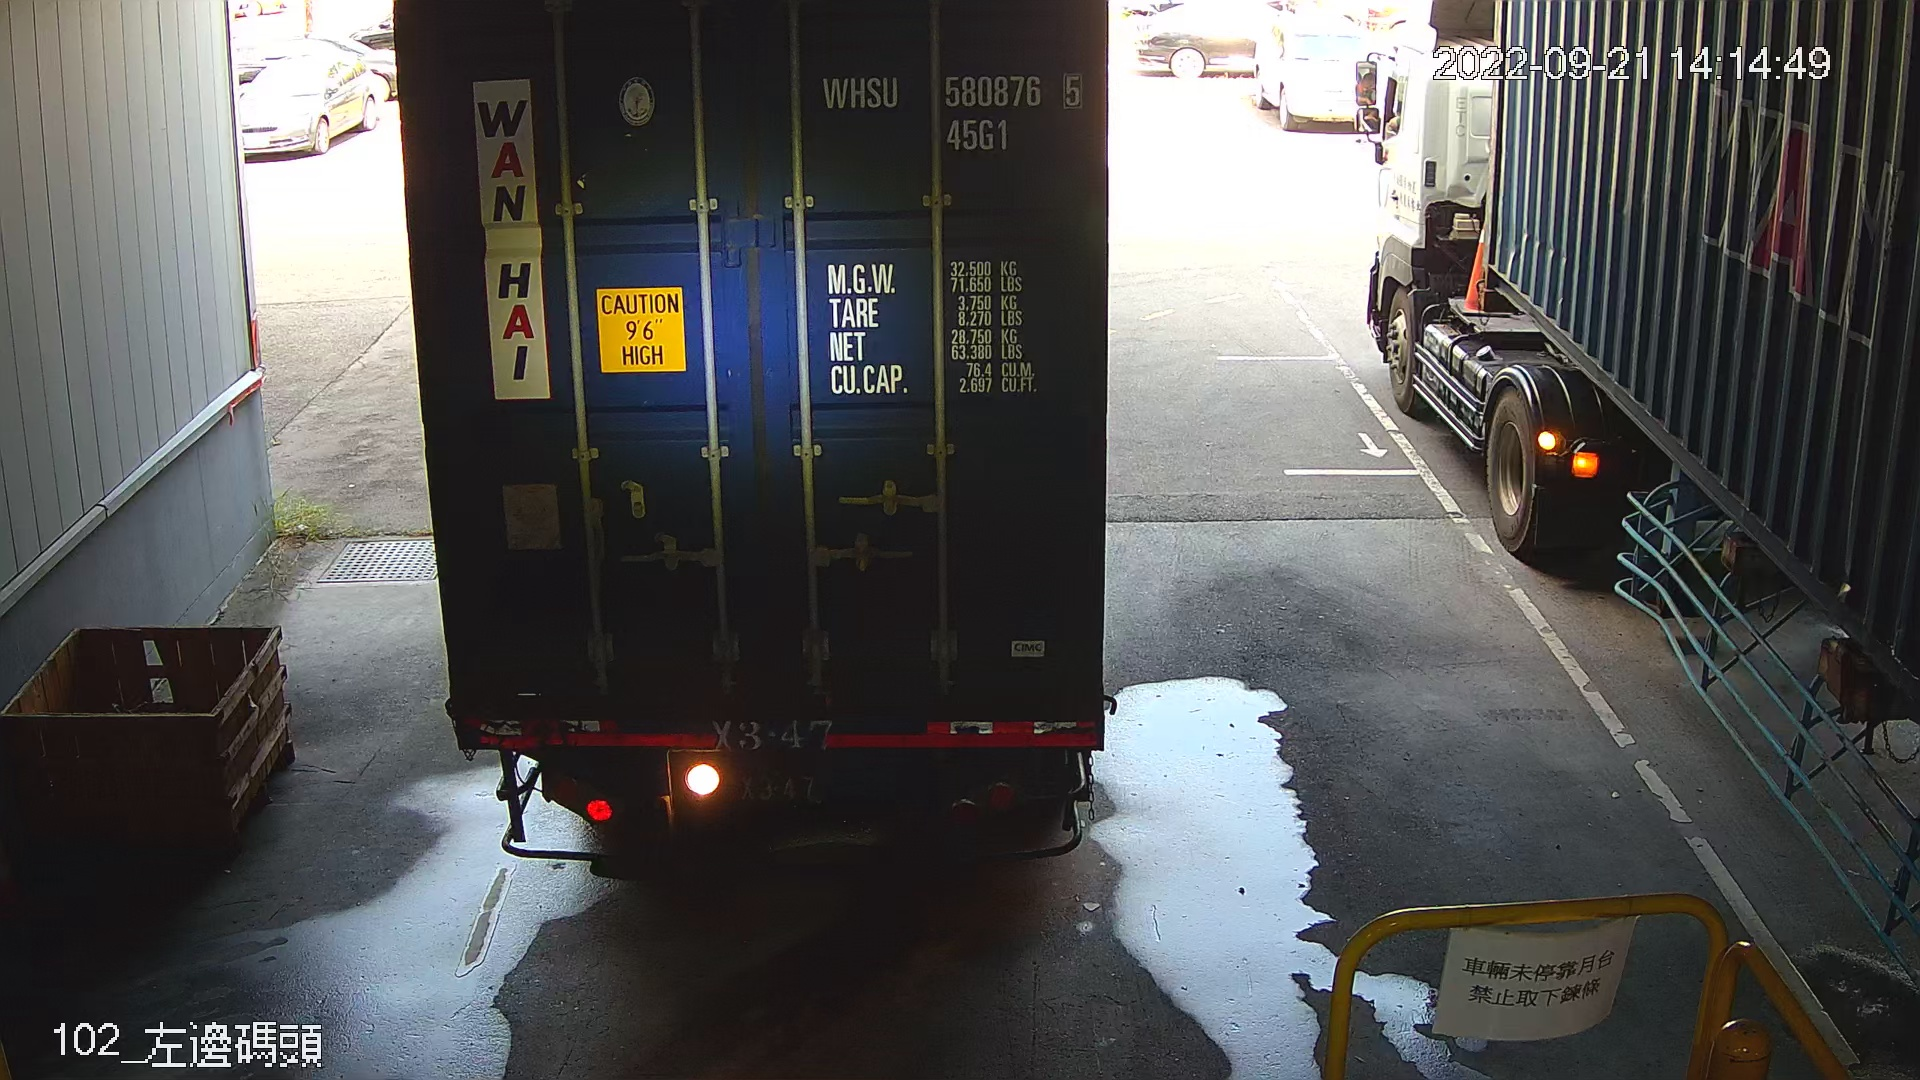container: (808, 61, 1095, 164)
